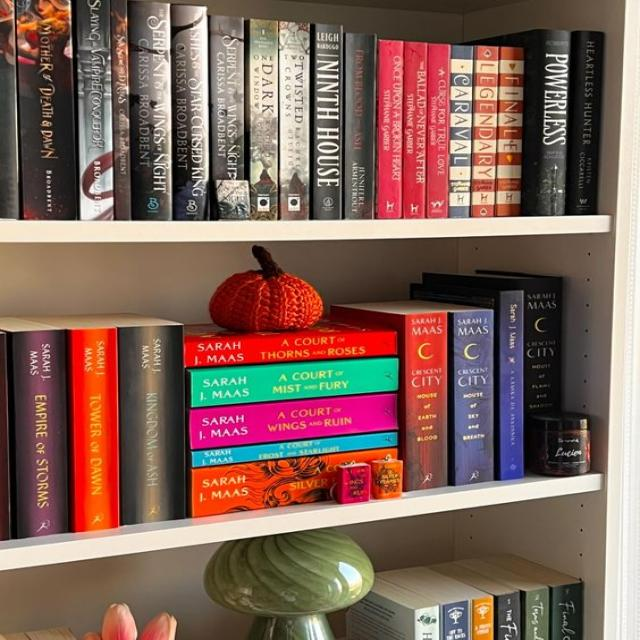book: (15, 0, 78, 220), (120, 325, 187, 526), (188, 394, 397, 449), (13, 329, 67, 538), (191, 360, 399, 408), (72, 327, 120, 533), (192, 453, 341, 516), (130, 0, 172, 223), (75, 0, 114, 220), (170, 6, 210, 220), (404, 312, 448, 491), (184, 333, 397, 368), (453, 309, 494, 486), (192, 433, 398, 468), (209, 16, 243, 221), (569, 30, 604, 215), (278, 21, 310, 219), (535, 30, 569, 216), (312, 24, 343, 219), (250, 19, 279, 220), (345, 32, 375, 219), (470, 47, 501, 217), (524, 277, 560, 412), (500, 290, 525, 482), (495, 48, 523, 217), (378, 39, 403, 219), (403, 41, 428, 218), (427, 43, 451, 218), (111, 0, 130, 221), (449, 45, 473, 217)
